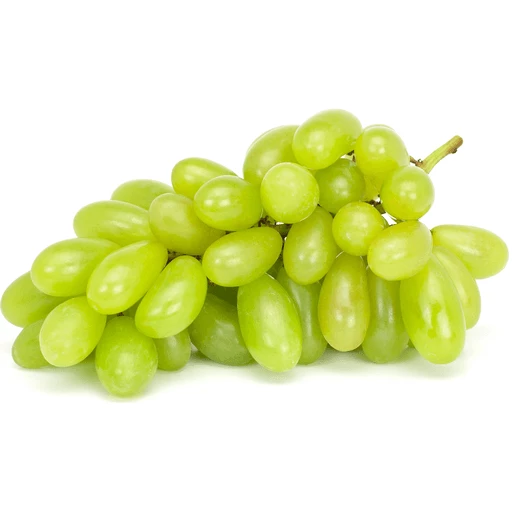Healthy: (236, 274, 300, 375), (400, 262, 463, 362), (89, 245, 171, 315), (138, 257, 205, 341), (95, 314, 156, 401), (191, 294, 258, 366), (29, 239, 114, 292), (205, 227, 284, 284), (322, 256, 369, 350), (294, 103, 361, 167), (44, 293, 100, 365), (74, 198, 158, 245), (366, 221, 436, 277), (432, 224, 508, 275), (278, 211, 332, 282), (282, 275, 326, 362), (196, 177, 267, 230), (148, 195, 220, 245), (260, 160, 318, 219), (359, 124, 409, 188), (368, 272, 402, 363), (1, 271, 54, 327), (383, 164, 434, 220), (242, 128, 308, 170), (440, 265, 480, 332), (168, 155, 242, 186), (314, 165, 365, 209), (333, 203, 380, 249), (8, 321, 53, 369), (157, 325, 188, 375), (114, 178, 179, 200)
